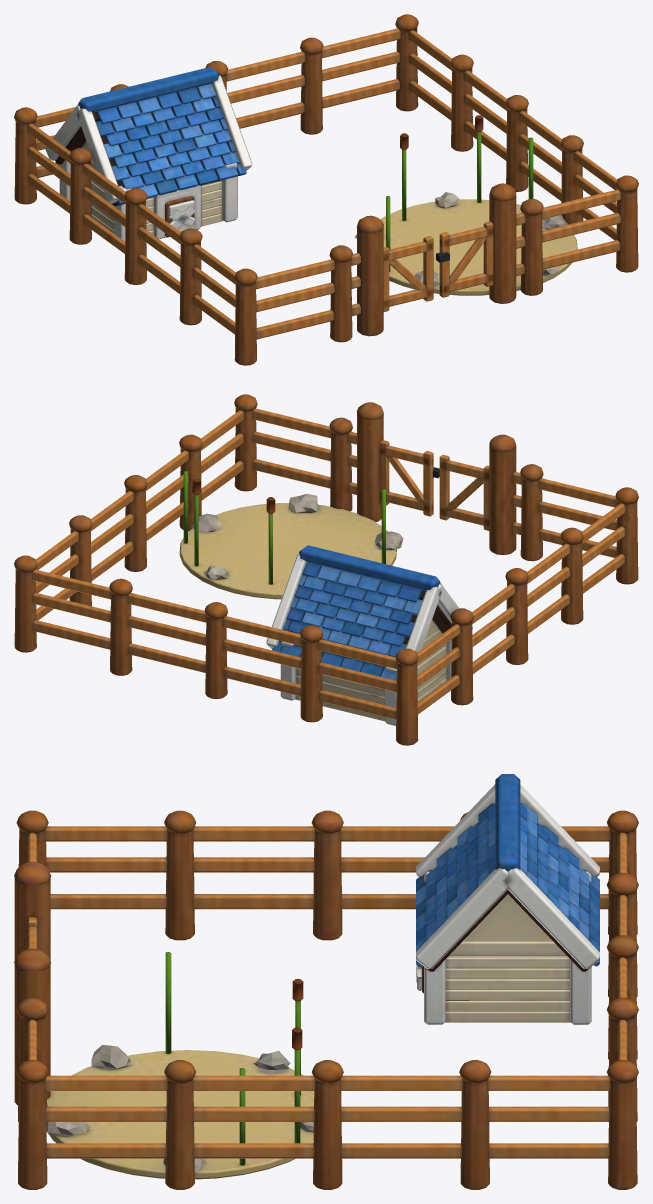
The model's file is toulouse_pen.glb.
3 renders of one model, top to bottom at view 1: azimuth 30°, elevation 25°; view 2: azimuth 150°, elevation 25°; view 3: azimuth 270°, elevation 25°, orthographic. The views are drawn at different scales.
Parts seen in each view (by area): view 1: toulouse_pen, gate1, gate0; view 2: toulouse_pen, gate1, gate0; view 3: toulouse_pen.
Part boxes in pixels (x1=…): toulouse_pen: x1=14, y1=14, x2=638, y2=365; gate1: x1=436, y1=221, x2=493, y2=297; gate0: x1=383, y1=236, x2=433, y2=311; toulouse_pen: x1=14, y1=394, x2=638, y2=745; gate1: x1=379, y1=440, x2=439, y2=516; gate0: x1=439, y1=455, x2=489, y2=530; toulouse_pen: x1=14, y1=774, x2=638, y2=1189.
Size of the model in its own units: 2 by 0.615 by 2.01.
1 material, 1 textured.
